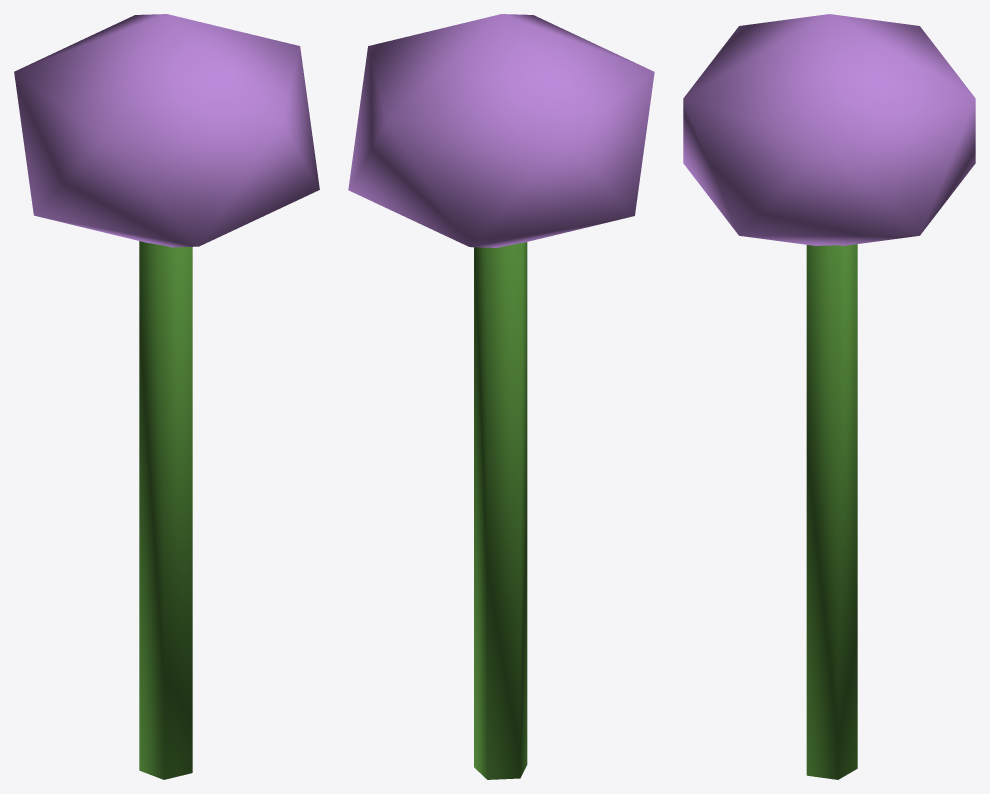
Rendered from flower_clover.fbx.
3 renders of one model, left to right at view 1: azimuth 30°, elevation 25°; view 2: azimuth 150°, elevation 25°; view 3: azimuth 270°, elevation 25°, orthographic.
Parts seen in each view (by area): view 1: flower_clover; view 2: flower_clover; view 3: flower_clover.
Part boxes in pixels (left/top/right/bottom): flower_clover: left=14, top=14, right=319, bottom=779; flower_clover: left=348, top=14, right=654, bottom=779; flower_clover: left=683, top=14, right=975, bottom=779.
Bounding box in the file's own units: 0.0197 × 0.0532 × 0.0187.
